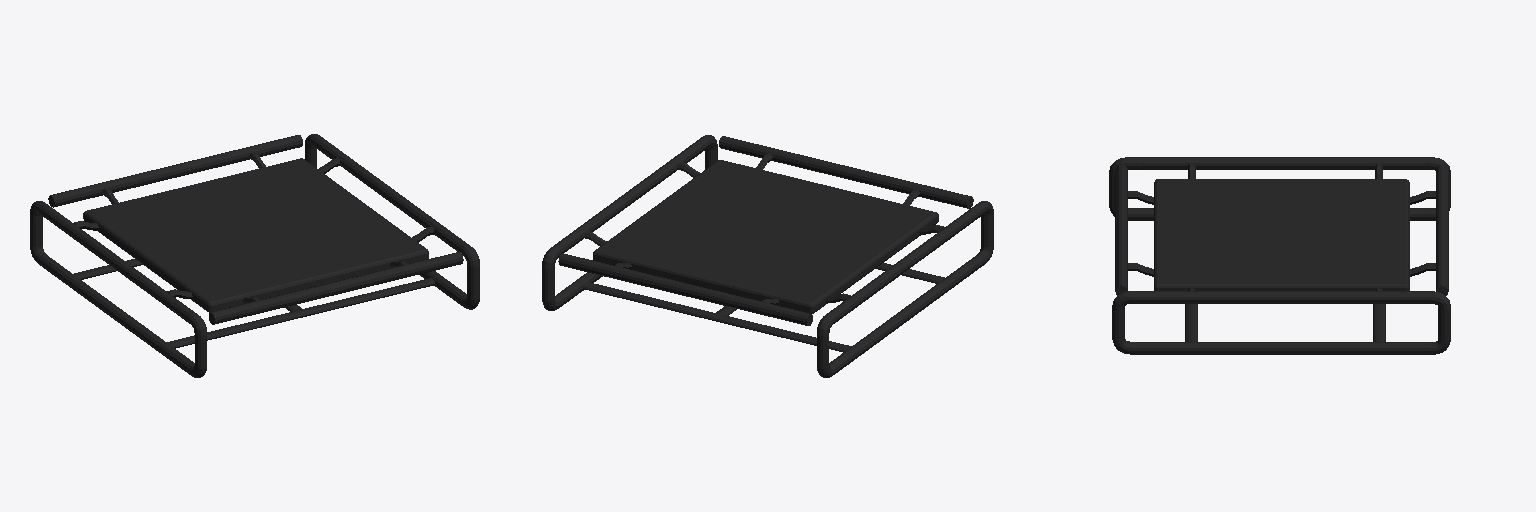
Rendered from MediumPlatform.obj.
The picture shows the model from 3 angles: view 1: azimuth 30°, elevation 25°; view 2: azimuth 150°, elevation 25°; view 3: azimuth 270°, elevation 25°; orthographic projection.
Parts seen in each view (by area): view 1: Platform_Medium; view 2: Platform_Medium; view 3: Platform_Medium.
Boxes of the visible parts, box(x1,y1,x2,y2) form: Platform_Medium: box(30, 134, 479, 377); Platform_Medium: box(542, 135, 993, 377); Platform_Medium: box(1109, 157, 1450, 354).
Bounding box in the file's own units: 6.38 × 1.35 × 6.62.